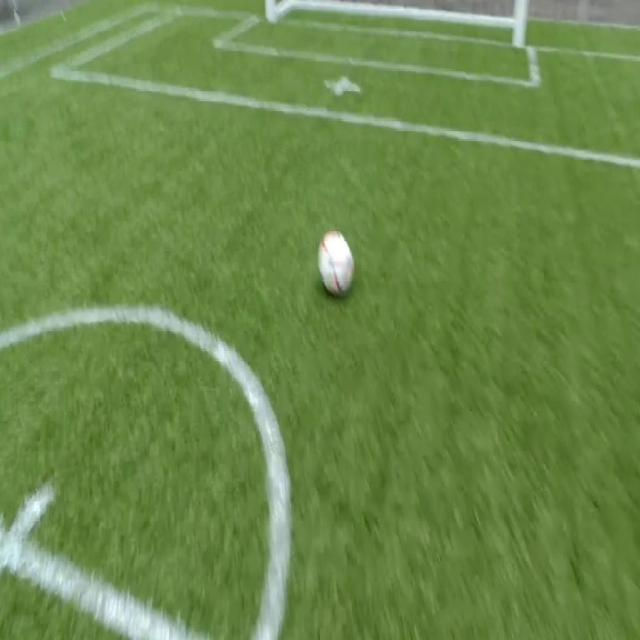ball: (317, 230, 355, 296)
goalpost: (507, 11, 530, 54), (263, 0, 284, 28)
